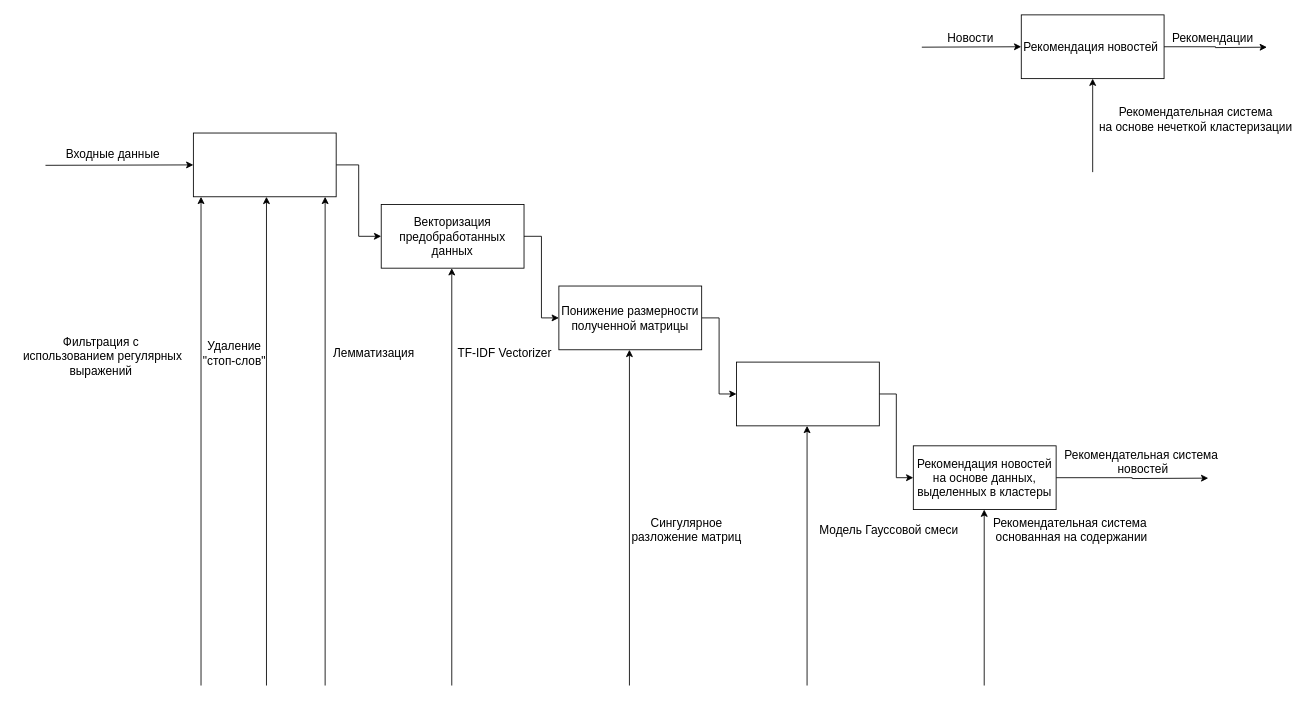
Some shapes in this 1311 by 707 pixel diagram are drawn without their labels. Here are the shapes that lost their labels. From the top down, the centre of each, then its label:
the point at 264,164: Предобработка входных данных
the point at 807,393: Разделение новостей на кластеры
